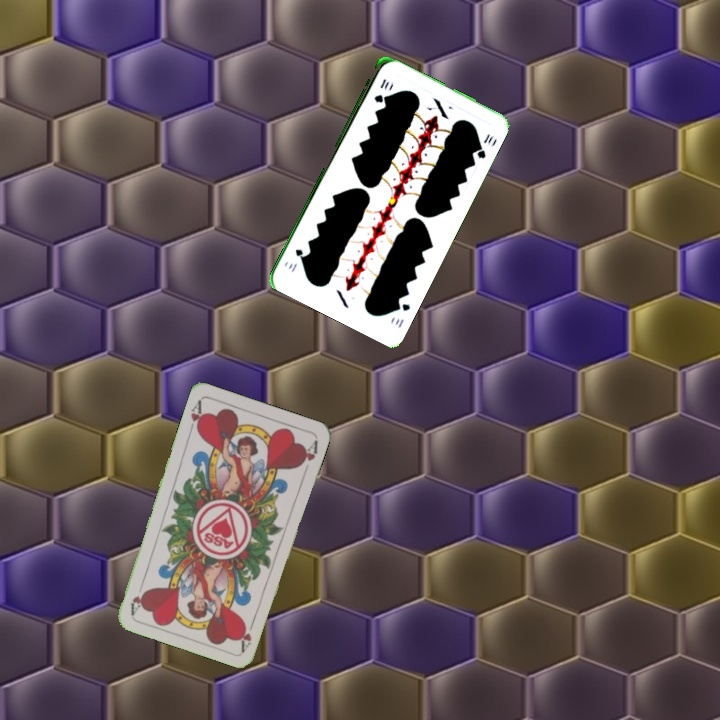G10: (391, 297, 413, 330), (370, 75, 392, 105)
HA: (185, 396, 206, 436), (237, 614, 258, 653)
